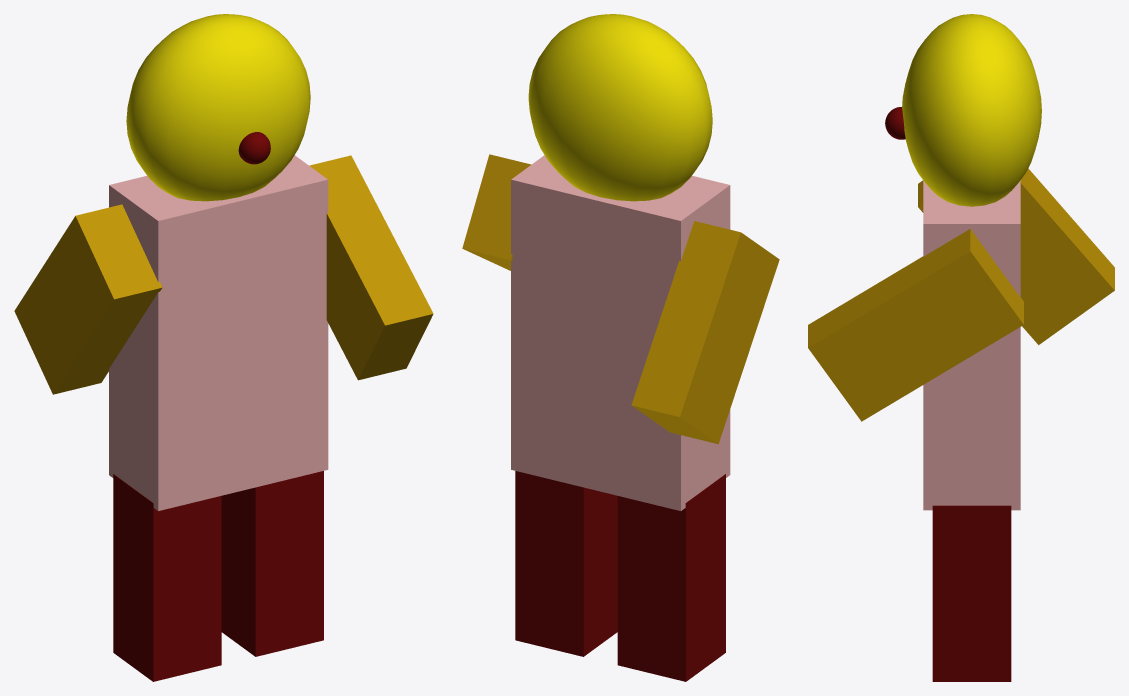
Rendered from Sample.fbx.
The picture shows the model from 3 angles, left to right: view 1: azimuth 30°, elevation 25°; view 2: azimuth 150°, elevation 25°; view 3: azimuth 270°, elevation 25°; orthographic projection.
Parts seen in each view (by area): view 1: pCube3, pSphere5, pCube1, pCube4, pCube6, pCube5, pSphere6; view 2: pCube3, pSphere5, pCube4, pCube1, pCube6, pCube5; view 3: pCube5, pSphere5, pCube3, pCube6, pCube4, pSphere6.
Part boxes in pixels (x1,y1,x2,y2): pCube3: [109, 155, 328, 510]; pSphere5: [126, 14, 310, 201]; pCube1: [113, 474, 221, 681]; pCube4: [14, 204, 162, 394]; pCube6: [221, 471, 323, 656]; pCube5: [309, 155, 433, 380]; pSphere6: [238, 132, 270, 164]; pCube3: [511, 155, 730, 510]; pSphere5: [528, 14, 712, 201]; pCube4: [631, 221, 779, 444]; pCube1: [617, 474, 725, 681]; pCube6: [515, 471, 617, 656]; pCube5: [462, 154, 531, 270]; pCube5: [808, 229, 1023, 421]; pSphere5: [902, 14, 1041, 206]; pCube3: [923, 180, 1020, 510]; pCube6: [932, 505, 1011, 681]; pCube4: [918, 168, 1114, 345]; pSphere6: [885, 107, 905, 139].
Bounding box in the file's own units: 1.55 × 3.51 × 1.58.
